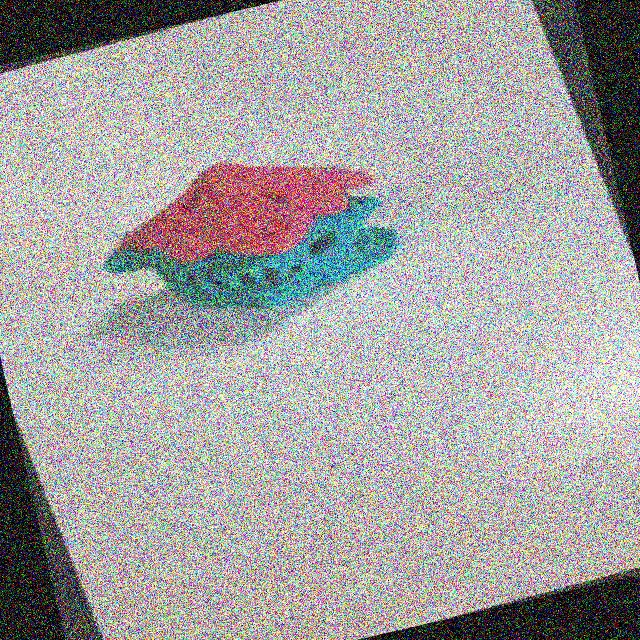House: (36, 95, 458, 405)
